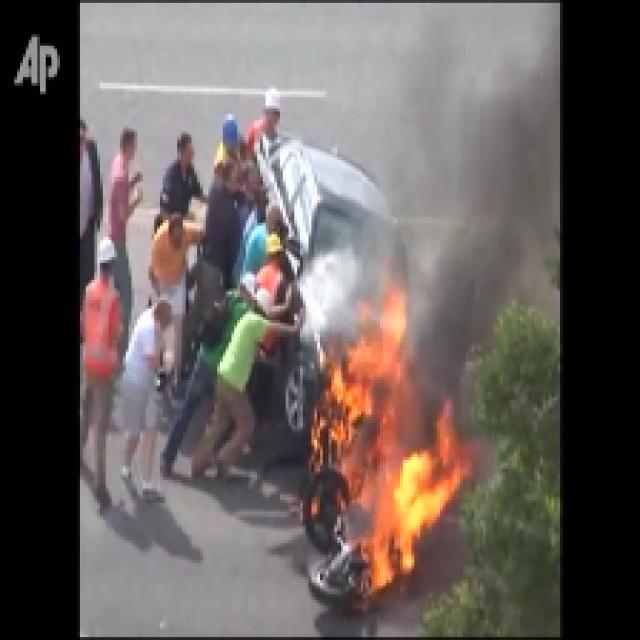Fire: (323, 297, 494, 606)
Smoke: (377, 2, 554, 348)
